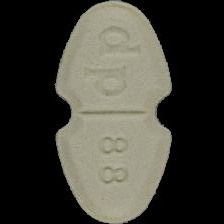54868-4177: (0, 0, 224, 224)
